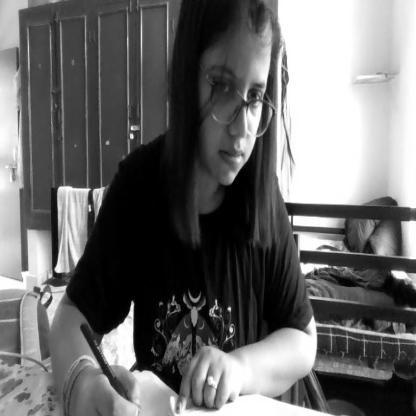Distracted: (180, 0, 288, 206)
